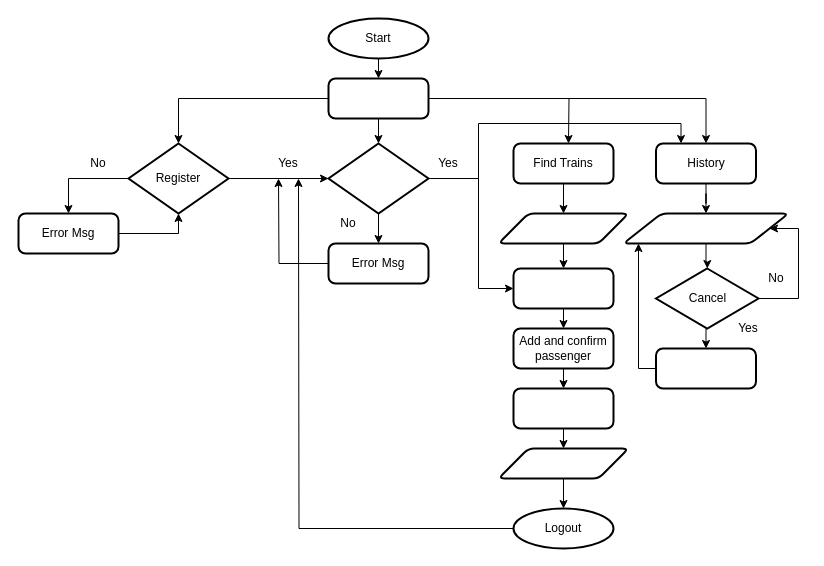
The diagram is 824 pixels wide and 566 high, and some of its shapes have lost their labels. Each missing label, with the centre of its shape:
"Book Ticket" belongs at point (563, 408).
"Cancels the ticket" belongs at point (705, 368).
"Display past journey" belongs at point (705, 228).
"Display Tickets" belongs at point (563, 463).
"Display Trains" belongs at point (563, 228).
"Login" belongs at point (378, 178).
"Select and book" belongs at point (563, 288).
"Welcome" belongs at point (378, 98).
